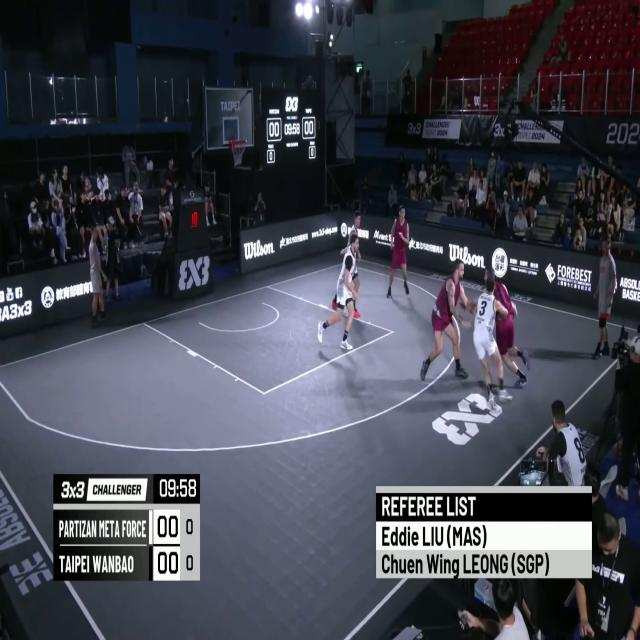hoop: (229, 138, 247, 168)
player: (480, 262, 530, 392), (421, 260, 472, 386), (471, 272, 512, 415), (316, 235, 361, 352), (336, 212, 361, 316), (386, 204, 408, 297)
